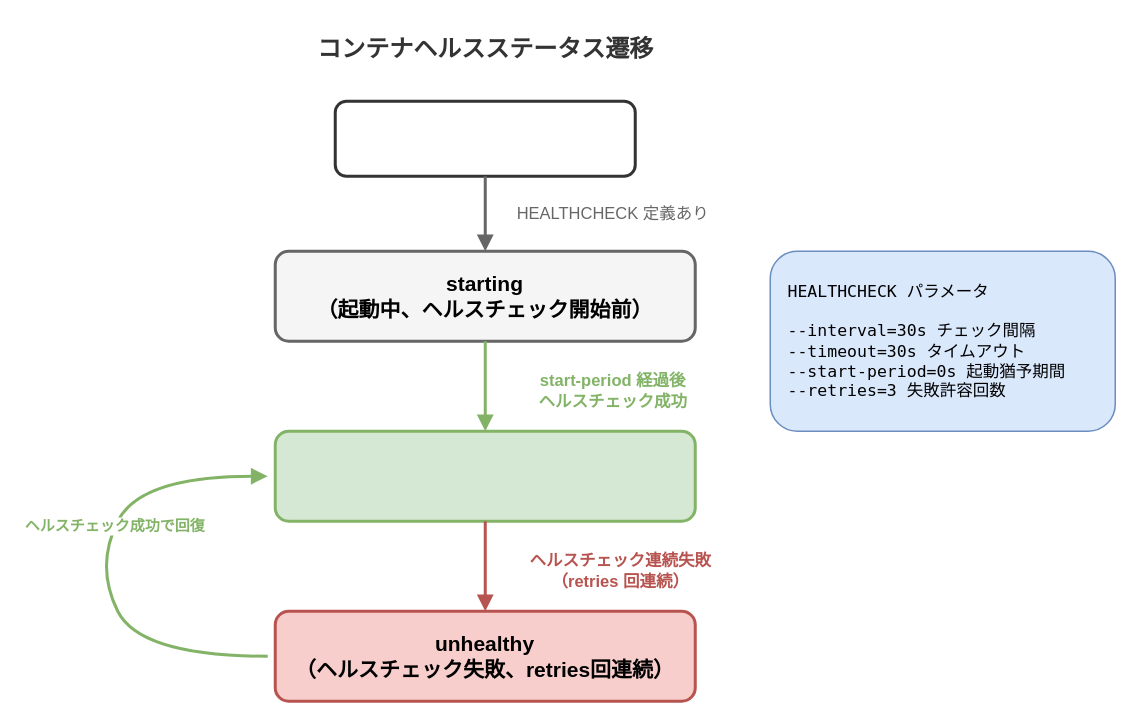
Some shapes in this 1143 by 728 pixel diagram are drawn without their labels. Here are the shapes that lost their labels. From the top down, the centre of each, then its label:
At pixel 484 138: "コンテナ起動".
At pixel 484 475: "healthy （ヘルスチェック成功）".
